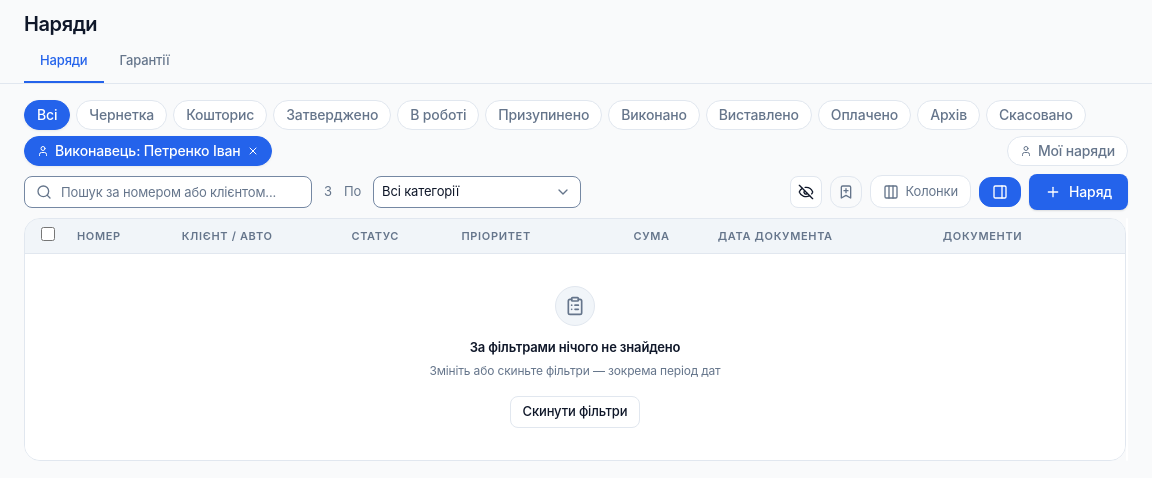
Наряди — фільтр виконавця з адреси (звіт «Наряди») › «×» на фільтрі знімає виконавця, дати лишаються
Click the button with aria-label "Зняти фільтр «Виконавець: Петренко Іван»" at (148, 150), box [24, 136, 272, 166]
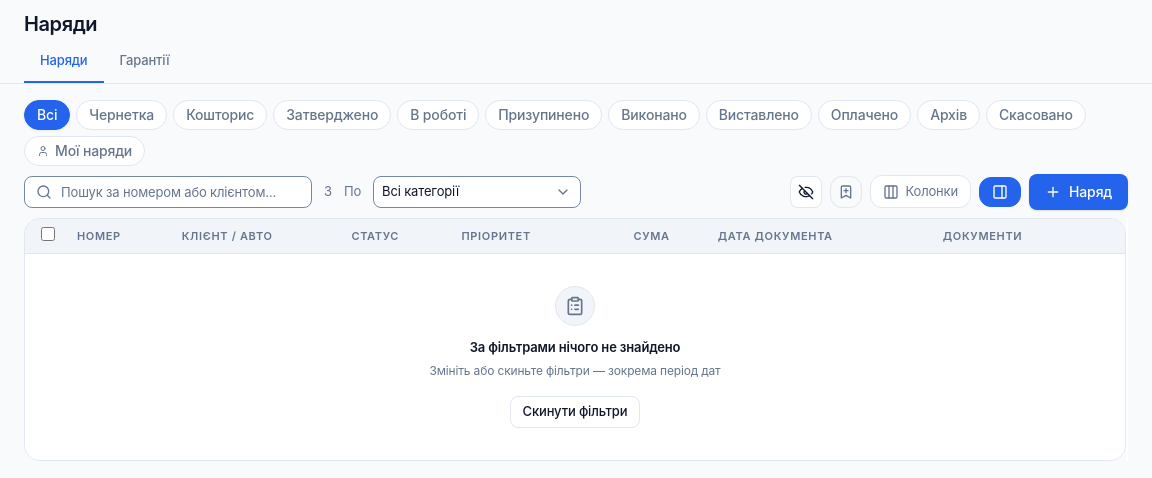
Result: the button with test id "wo-executor-filter" is gone
